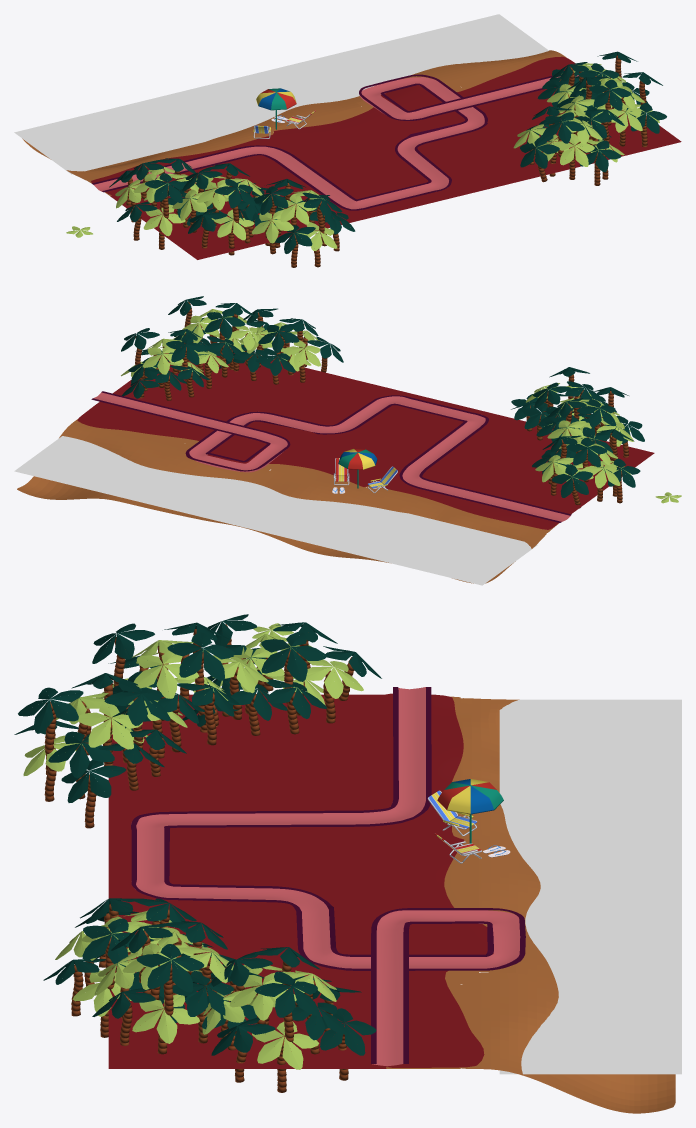
Rendered from mapa praia.fbx.
3 renders of one model, top to bottom at view 1: azimuth 30°, elevation 25°; view 2: azimuth 150°, elevation 25°; view 3: azimuth 270°, elevation 25°, orthographic. The views are drawn at different scales.
Visible parts, largest first — view 1: Mar, Gramadão 1, Pista Praia.001, Gramadão 2, areia 1, Pista Praia.002, areia 2, Cilindro.074, Cilindro.054, Cilindro.084, Cilindro.072, Cilindro.162 (+18 smaller); view 2: Gramadão 1, Mar, areia 1, Pista Praia.001, Gramadão 2, Pista Praia.002, areia 2, Cilindro.134, Cilindro.056, Cilindro.116, Cilindro.144, Cilindro.086 (+11 smaller); view 3: Mar, Gramadão 1, Pista Praia.001, areia 1, Gramadão 2, Pista Praia.002, areia 2, Cilindro.146, Cilindro.026, Cilindro.058, Cilindro.150, Cilindro.118 (+29 smaller).
Part boxes in pixels (x1=…): Mar: x1=14, y1=14, x2=548, y2=174; Gramadão 1: x1=110, y1=91, x2=681, y2=259; Pista Praia.001: x1=94, y1=75, x2=578, y2=209; Gramadão 2: x1=91, y1=56, x2=575, y2=195; areia 1: x1=22, y1=50, x2=566, y2=180; Pista Praia.002: x1=92, y1=66, x2=591, y2=210; areia 2: x1=86, y1=81, x2=486, y2=195; Cilindro.074: x1=520, y1=136, x2=559, y2=168; Cilindro.054: x1=589, y1=79, x2=631, y2=110; Cilindro.084: x1=542, y1=112, x2=584, y2=143; Cilindro.072: x1=552, y1=133, x2=594, y2=166; Cilindro.162: x1=251, y1=210, x2=293, y2=243; Gramadão 1: x1=113, y1=344, x2=654, y2=514; Mar: x1=14, y1=436, x2=537, y2=585; areia 1: x1=17, y1=419, x2=546, y2=583; Pista Praia.001: x1=93, y1=392, x2=570, y2=521; Gramadão 2: x1=77, y1=402, x2=569, y2=529; Pista Praia.002: x1=91, y1=391, x2=571, y2=522; areia 2: x1=149, y1=434, x2=559, y2=532; Cilindro.134: x1=551, y1=464, x2=592, y2=497; Cilindro.056: x1=204, y1=308, x2=245, y2=338; Cilindro.116: x1=166, y1=335, x2=207, y2=364; Cilindro.144: x1=566, y1=438, x2=607, y2=467; Cilindro.086: x1=258, y1=324, x2=299, y2=353; Mar: x1=499, y1=699, x2=681, y2=1074; Gramadão 1: x1=108, y1=694, x2=386, y2=1068; Pista Praia.001: x1=135, y1=687, x2=520, y2=1066; areia 1: x1=453, y1=698, x2=675, y2=1113; Gramadão 2: x1=380, y1=693, x2=493, y2=1067; Pista Praia.002: x1=131, y1=687, x2=525, y2=1063; areia 2: x1=386, y1=696, x2=515, y2=1068; Cilindro.146: x1=261, y1=632, x2=326, y2=681; Cilindro.026: x1=167, y1=632, x2=234, y2=680; Cilindro.058: x1=136, y1=944, x2=204, y2=992; Cilindro.150: x1=77, y1=703, x2=142, y2=749; Cilindro.118: x1=254, y1=971, x2=319, y2=1017.
Size of the model in its own units: 3809 by 580 by 2427.
